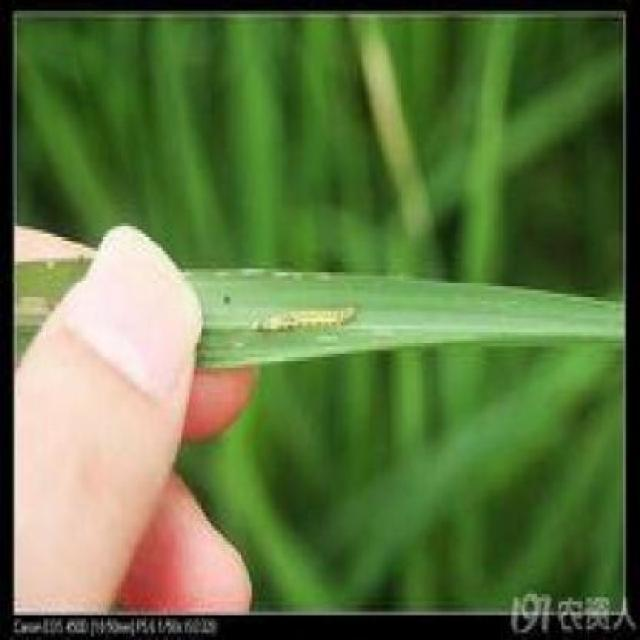leaf-folder: (263, 280, 375, 358)
